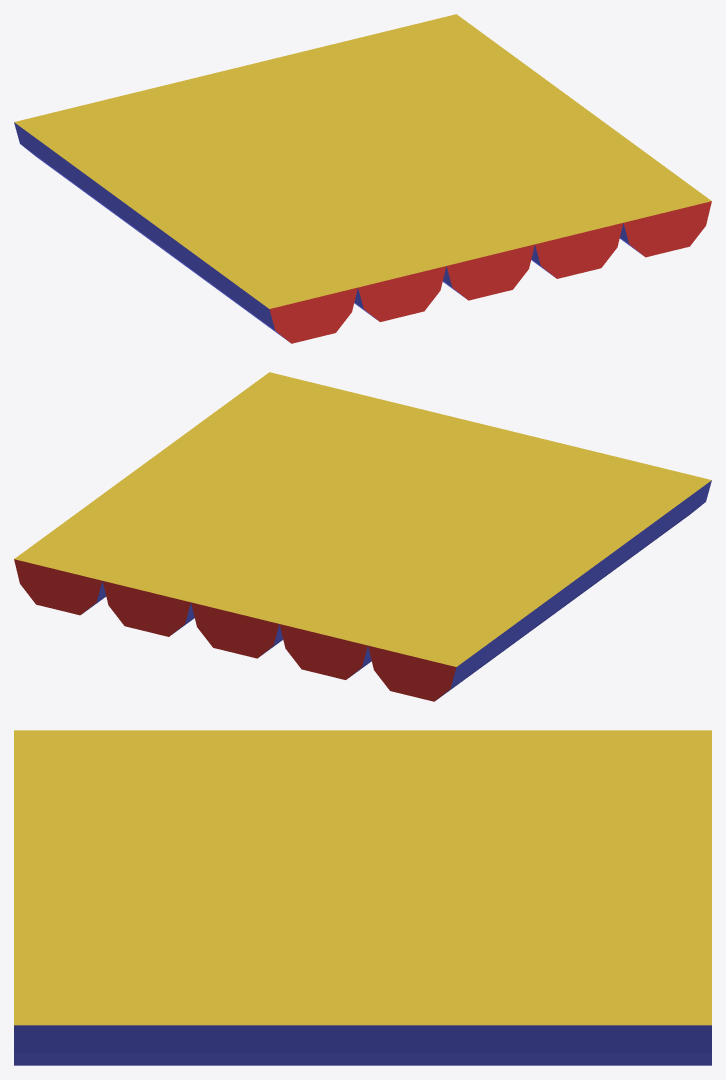
Rendered from WoodenFoundation.fbx.
3 renders of one model, top to bottom at view 1: azimuth 30°, elevation 25°; view 2: azimuth 150°, elevation 25°; view 3: azimuth 270°, elevation 25°, orthographic. The views are drawn at different scales.
Parts seen in each view (by area): view 1: WoodenFoundation; view 2: WoodenFoundation; view 3: WoodenFoundation.
Boxes of the visible parts, x1,y1,x2,y2 form: WoodenFoundation: [14, 14, 711, 343]; WoodenFoundation: [14, 372, 711, 701]; WoodenFoundation: [14, 730, 711, 1065].
Bounding box in the file's own units: 650 × 56.29 × 650.
